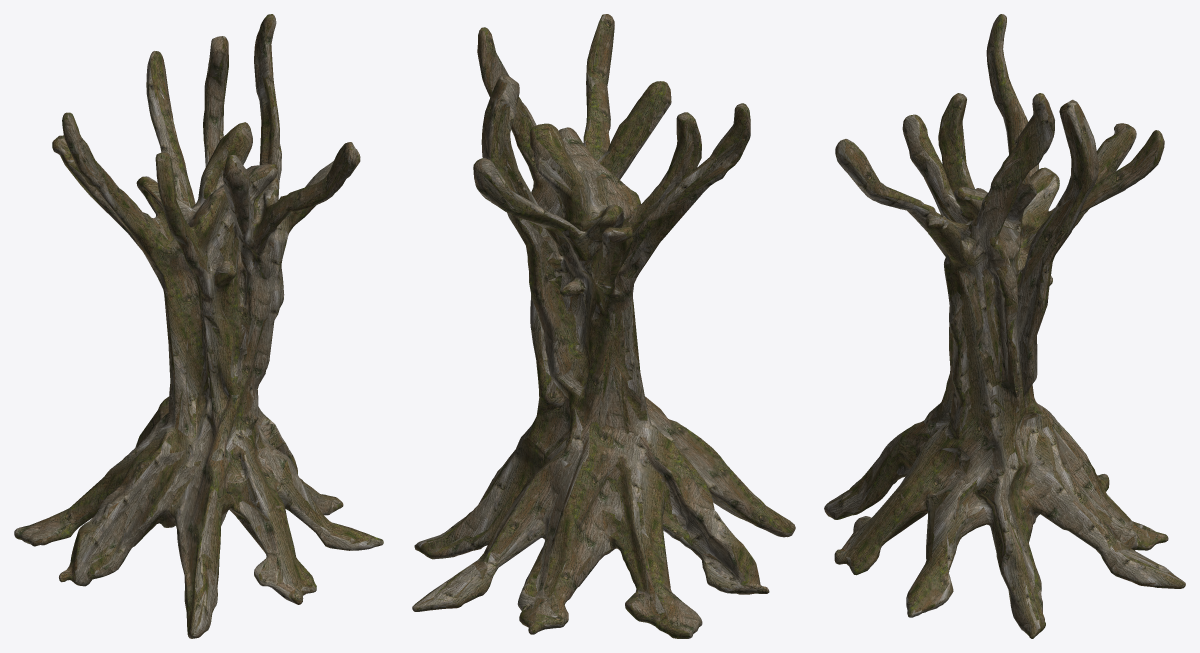
The model's file is low.poly.world.tree.one.glb.
3 renders of one model, left to right at view 1: azimuth 30°, elevation 25°; view 2: azimuth 150°, elevation 25°; view 3: azimuth 270°, elevation 25°, orthographic. The views are drawn at different scales.
Parts seen in each view (by area): view 1: BézierCurve.001; view 2: BézierCurve.001; view 3: BézierCurve.001.
Boxes of the visible parts, x1=… form: BézierCurve.001: x1=14, y1=14, x2=383, y2=638; BézierCurve.001: x1=412, y1=14, x2=795, y2=638; BézierCurve.001: x1=824, y1=14, x2=1185, y2=638.
Bounding box in the file's own units: 8.19 × 12.93 × 8.26.
Materials: 1 (1 with a texture image).
